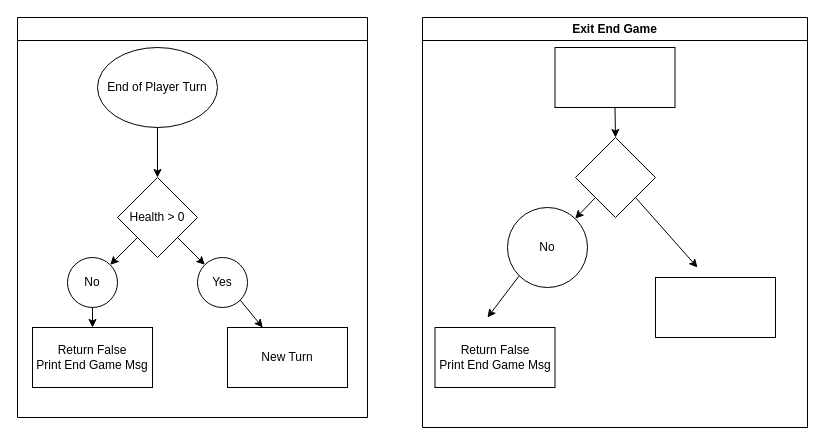
The diagram is 825 pixels wide and 445 high, and some of its shapes have lost their labels. The shapes that lost their labels are listed below. From the top down, each one's centre as x and y in pixels, then its label:
the point at 614,77: Player chose to use exit.
the point at 615,177: All four pillars?
the point at 192,217: Lose Due No Health
the point at 715,307: WIN
